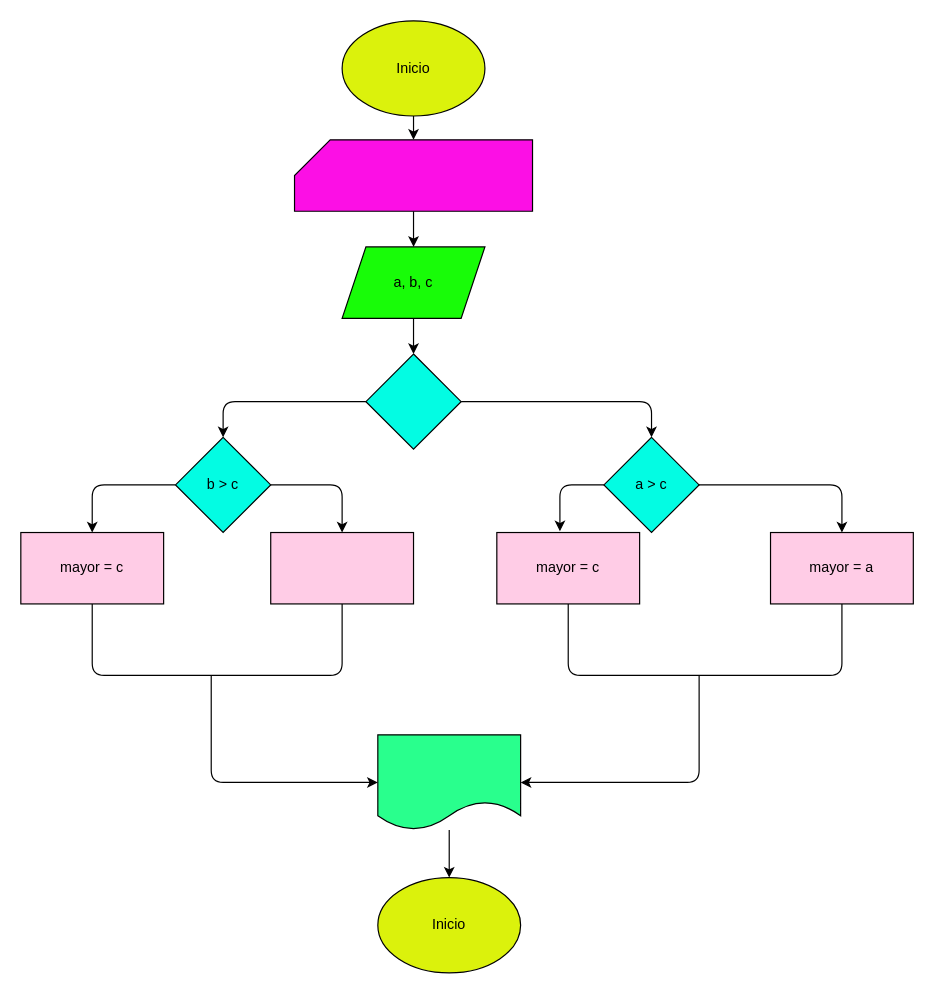
This 934x994 diagram has some shape labels left out. The centre of each missing label's shape, as x and y in pixels:
"a, b, c, mayor" belongs at point 413,175.
"a>b" belongs at point 413,401.
"mayor" belongs at point 449,782.
"mayor b" belongs at point 342,567.
